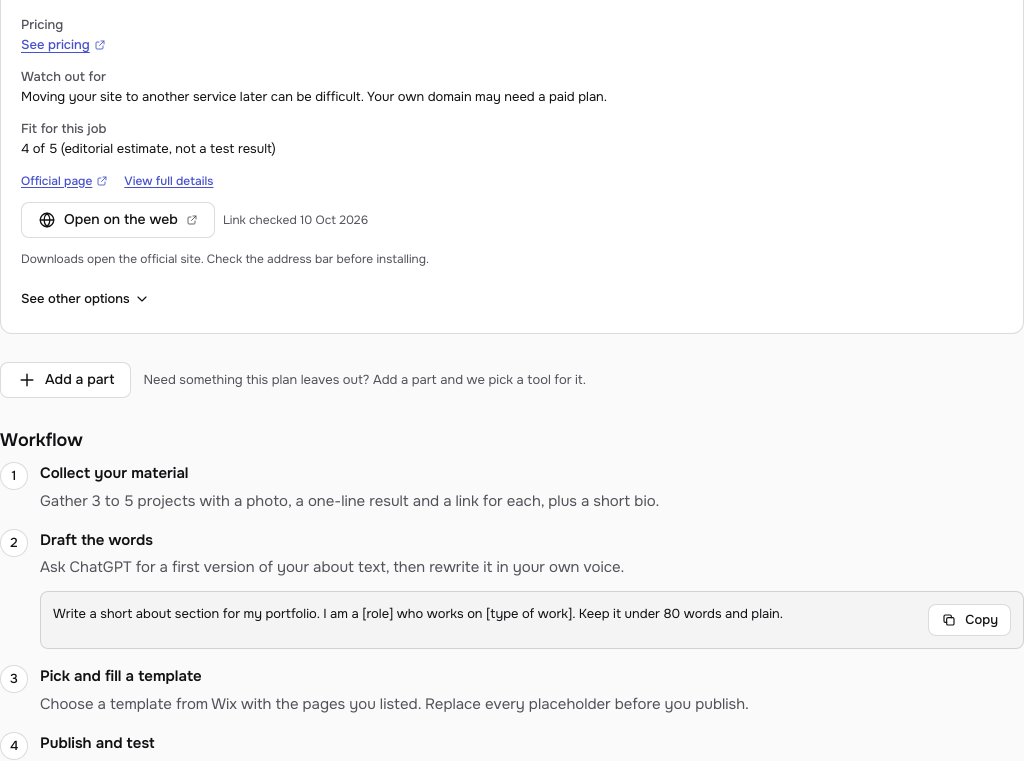
Test case: Add a part › marks parts that are already in the plan and cannot add them twice
This screenshot has width=1024, height=761.
(page scrolled)
Click the button "Add a part": (66, 380) [0,362,132,398]
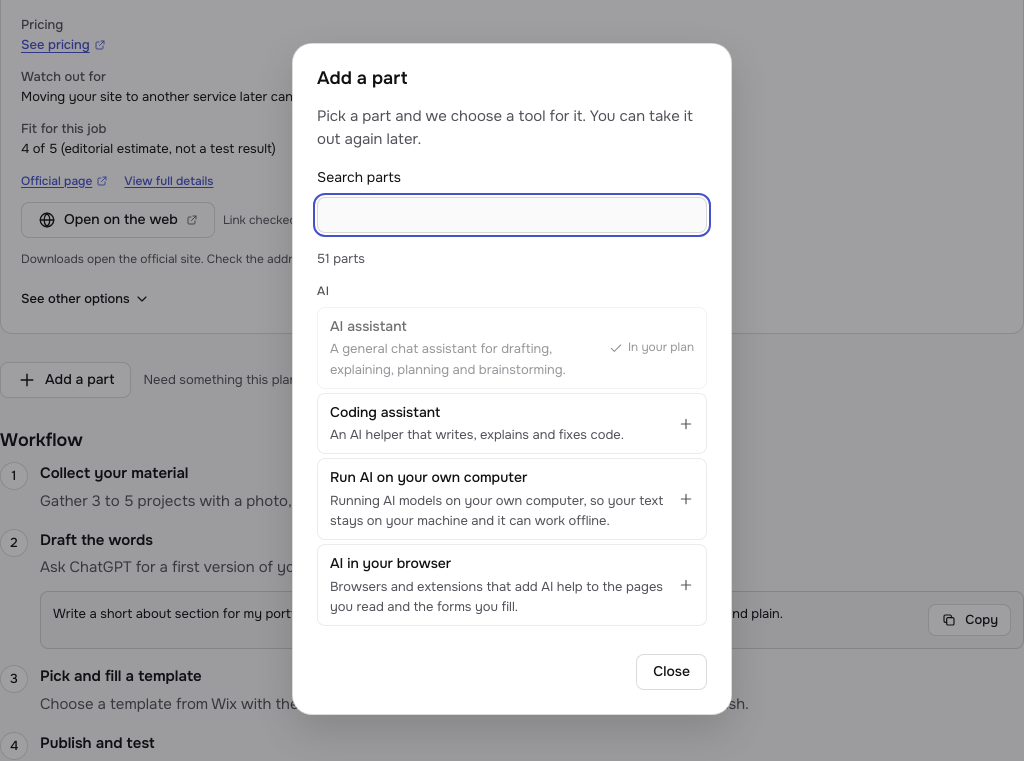
Now the button "AI assistant" is disabled, box [317,307,707,389]
